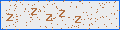z: (45, 13, 53, 22), (58, 10, 66, 18), (75, 16, 83, 24), (30, 8, 38, 15), (6, 14, 13, 21)
